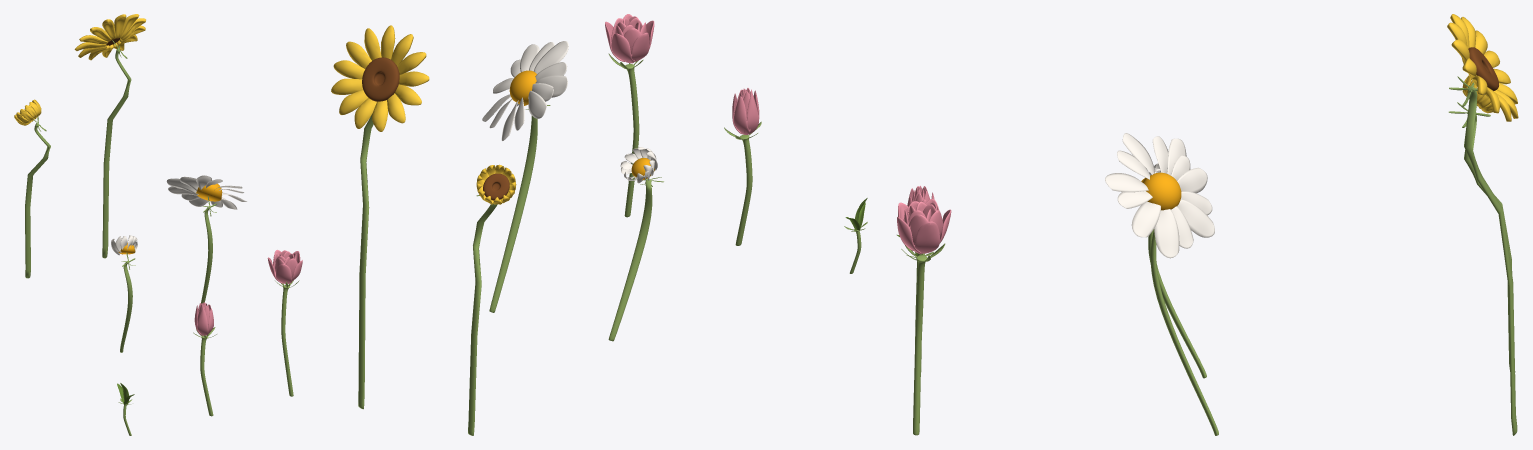
The model's file is growth.glb.
3 views of the same model, side by side, from view 1: azimuth 30°, elevation 25°; view 2: azimuth 150°, elevation 25°; view 3: azimuth 270°, elevation 25° (orthographic). The views are drawn at different scales.
Visible parts, largest first — view 1: Sunflower_bloom_petals, Daisy_bloom_petals, Sunflower_bloom_stem, Sunflower_bud_stem, Tulip_bloom_head, Tulip_bloom_stem, Daisy_bloom_stem, Tulip_bud_head, Daisy_bud_stem, Tulip_bud_stem, Sunflower_bud_petals, Daisy_bloom_centre (+1 smaller); view 2: Sunflower_bloom_petals, Daisy_bloom_petals, Sunflower_bloom_stem, Tulip_bloom_head, Daisy_bloom_stem, Sunflower_bud_stem, Daisy_bud_stem, Sunflower_bloom_centre, Tulip_bud_head, Tulip_bloom_stem, Tulip_bud_stem, Sunflower_bud_petals (+3 smaller); view 3: Daisy_bloom_petals, Sunflower_bloom_petals, Sunflower_bloom_stem, Tulip_bloom_head, Tulip_bloom_stem, Daisy_bloom_stem, Daisy_bloom_centre, Daisy_bud_stem, Sunflower_bud_stem, Sunflower_bloom_centre.
Boxes of the visible parts, bbox=[...] form: Sunflower_bloom_petals: bbox=[74, 14, 145, 60]; Daisy_bloom_petals: bbox=[166, 175, 246, 209]; Sunflower_bloom_stem: bbox=[102, 40, 131, 258]; Sunflower_bud_stem: bbox=[25, 117, 50, 278]; Tulip_bloom_head: bbox=[267, 250, 302, 283]; Tulip_bloom_stem: bbox=[275, 280, 299, 396]; Daisy_bloom_stem: bbox=[201, 196, 216, 303]; Tulip_bud_head: bbox=[194, 302, 213, 335]; Daisy_bud_stem: bbox=[120, 252, 135, 352]; Tulip_bud_stem: bbox=[193, 327, 216, 416]; Sunflower_bud_petals: bbox=[14, 99, 41, 125]; Daisy_bloom_centre: bbox=[196, 183, 222, 201]; Sunflower_bloom_petals: bbox=[331, 25, 429, 131]; Daisy_bloom_petals: bbox=[482, 41, 568, 140]; Sunflower_bloom_stem: bbox=[358, 114, 373, 409]; Tulip_bloom_head: bbox=[605, 14, 654, 63]; Daisy_bloom_stem: bbox=[489, 105, 550, 312]; Sunflower_bud_stem: bbox=[468, 195, 497, 435]; Daisy_bud_stem: bbox=[608, 177, 663, 341]; Sunflower_bloom_centre: bbox=[362, 57, 399, 101]; Tulip_bud_head: bbox=[732, 88, 759, 134]; Tulip_bloom_stem: bbox=[608, 53, 643, 217]; Tulip_bud_stem: bbox=[724, 121, 761, 245]; Sunflower_bud_petals: bbox=[476, 164, 516, 204]; Daisy_bloom_petals: bbox=[1105, 133, 1214, 258]; Sunflower_bloom_petals: bbox=[1447, 14, 1518, 121]; Sunflower_bloom_stem: bbox=[1449, 76, 1517, 435]; Tulip_bloom_head: bbox=[897, 199, 951, 254]; Tulip_bloom_stem: bbox=[901, 243, 945, 435]; Daisy_bloom_stem: bbox=[1150, 229, 1218, 435]; Daisy_bloom_centre: bbox=[1141, 172, 1181, 210]; Daisy_bud_stem: bbox=[1148, 229, 1206, 378]; Sunflower_bud_stem: bbox=[1448, 102, 1515, 372]; Sunflower_bloom_centre: bbox=[1468, 47, 1498, 90].
Size of the model in its own units: 1.25 by 1.54 by 2.09.
